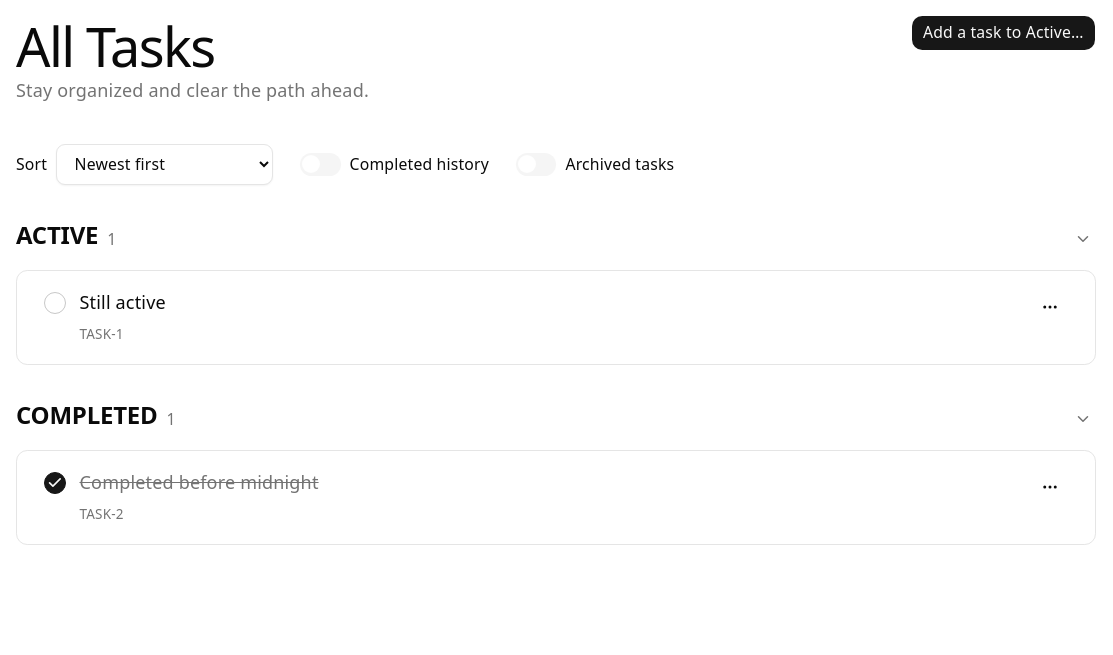
Test case: TaskWorkspace › regroups cached tasks at midnight and after tab resume without another API request
Expected: the text "Completed before midnight" is shown, [80,470,319,494]
Expected: the text "Already historical" is not shown
Click the switch labelled "Completed history" at point(395, 164), box [300,153,489,176]
Wait 10000 ms
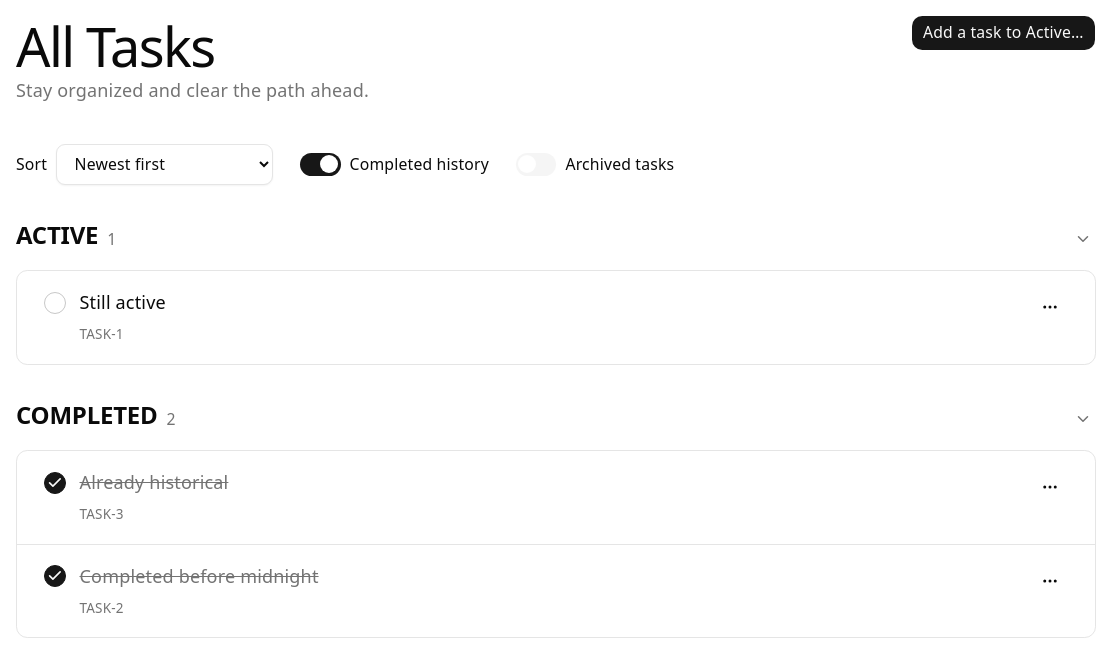
Expected: the text "Already historical" is shown, [80,470,228,494]
Click the switch labelled "Completed history" at point(395, 164), box [300,153,489,176]
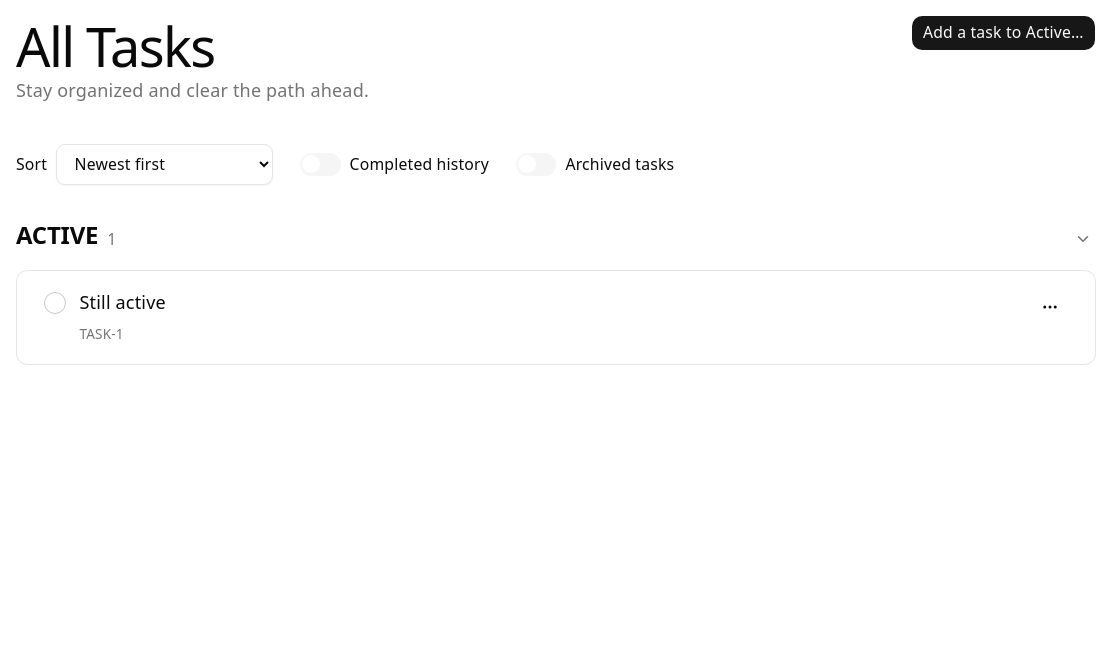
Expected: the text "Still active" is shown, [80,290,166,314]
Expected: the switch labelled "Completed history" is not checked
Click the switch labelled "Completed history" at point(395, 164), box [300,153,489,176]
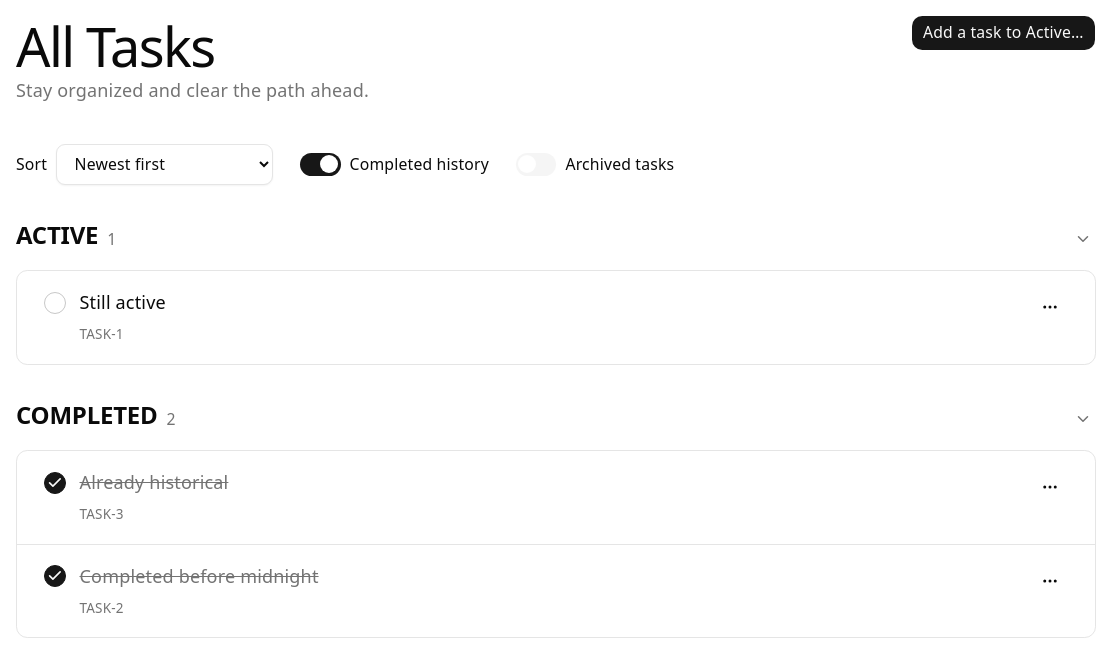
Expected: the text "Completed before midnight" is shown, [80,564,319,588]
Expected: the text "Already historical" is shown, [80,470,228,494]
